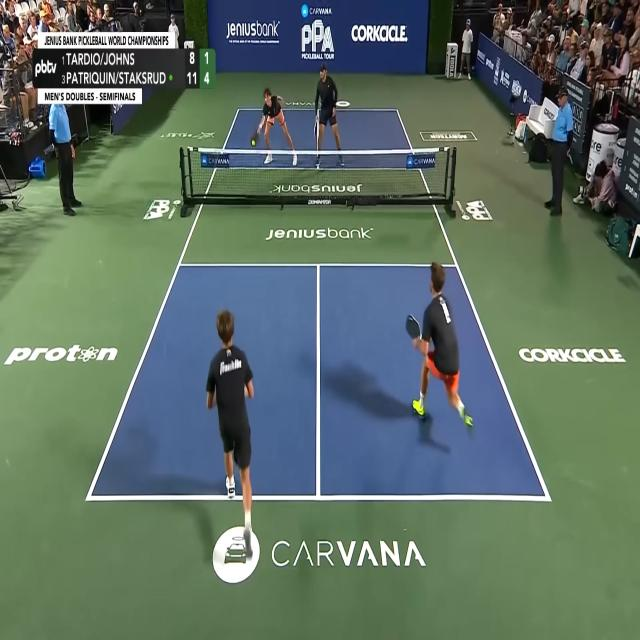ball: (251, 139, 255, 146)
